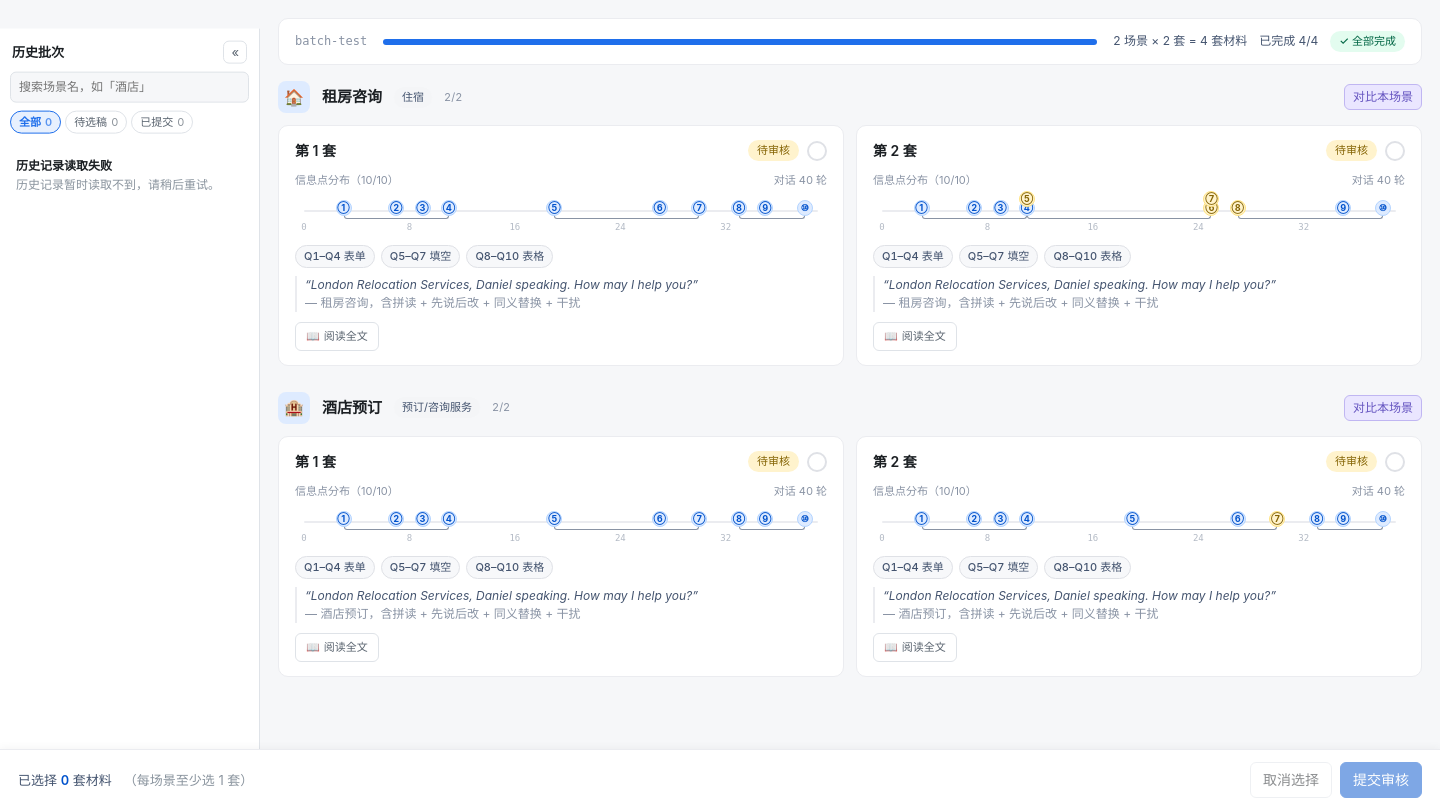
selection and submission › enforces at least one per scenario before 提交审核 is enabled
The image size is (1440, 810).
Expected: the button "提交审核" is disabled, [1340,762,1422,798]
Expected: the text "（每场景至少选 1 套）" is shown, [124,770,253,790]
# One scenario covered — still not enough.
What coordinates should you click on to do the following:
click the button named "第 1 套：选择"
I would click on:
 (817, 151)
Its box is [807,141,827,161].
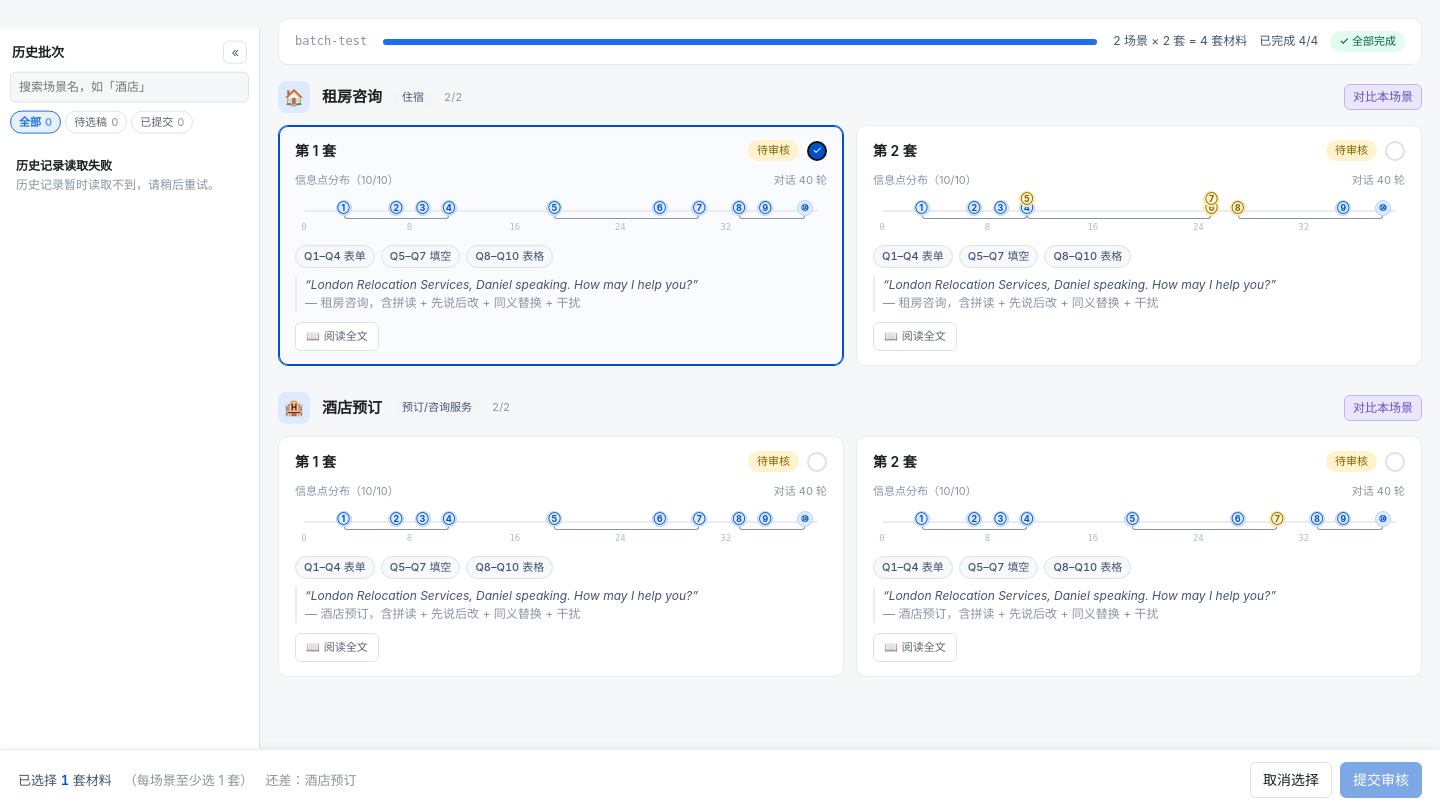
Expected: the button "提交审核" is disabled, [1340,762,1422,798]
Expected: the text "还差：酒店预订" is shown, [265,770,356,790]
# Both covered.
What coordinates should you click on to do the following:
click the button named "第 1 套：选择"
I would click on:
 (817, 462)
Its box is [807,452,827,472].
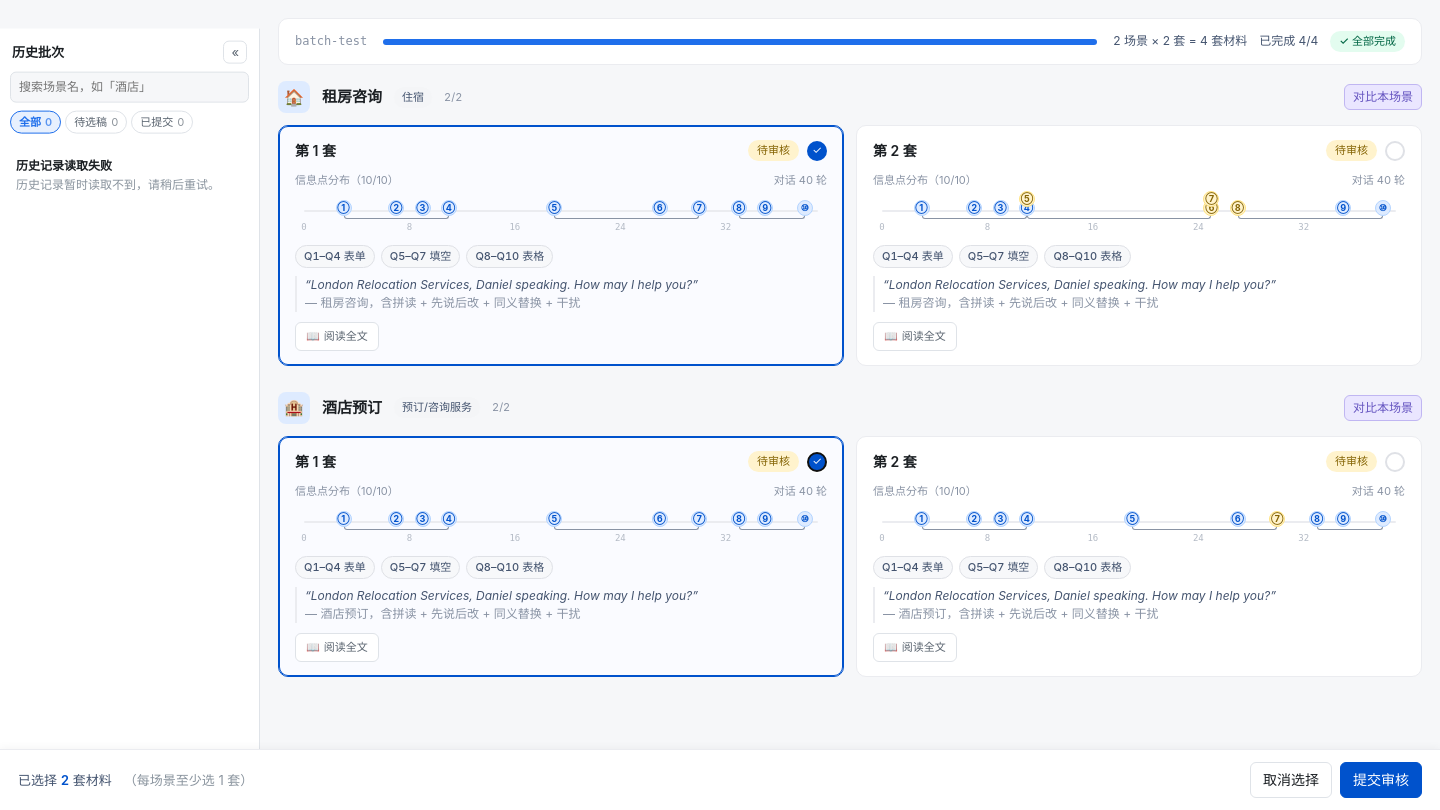
Expected: the button "提交审核" is enabled, [1340,762,1422,798]
